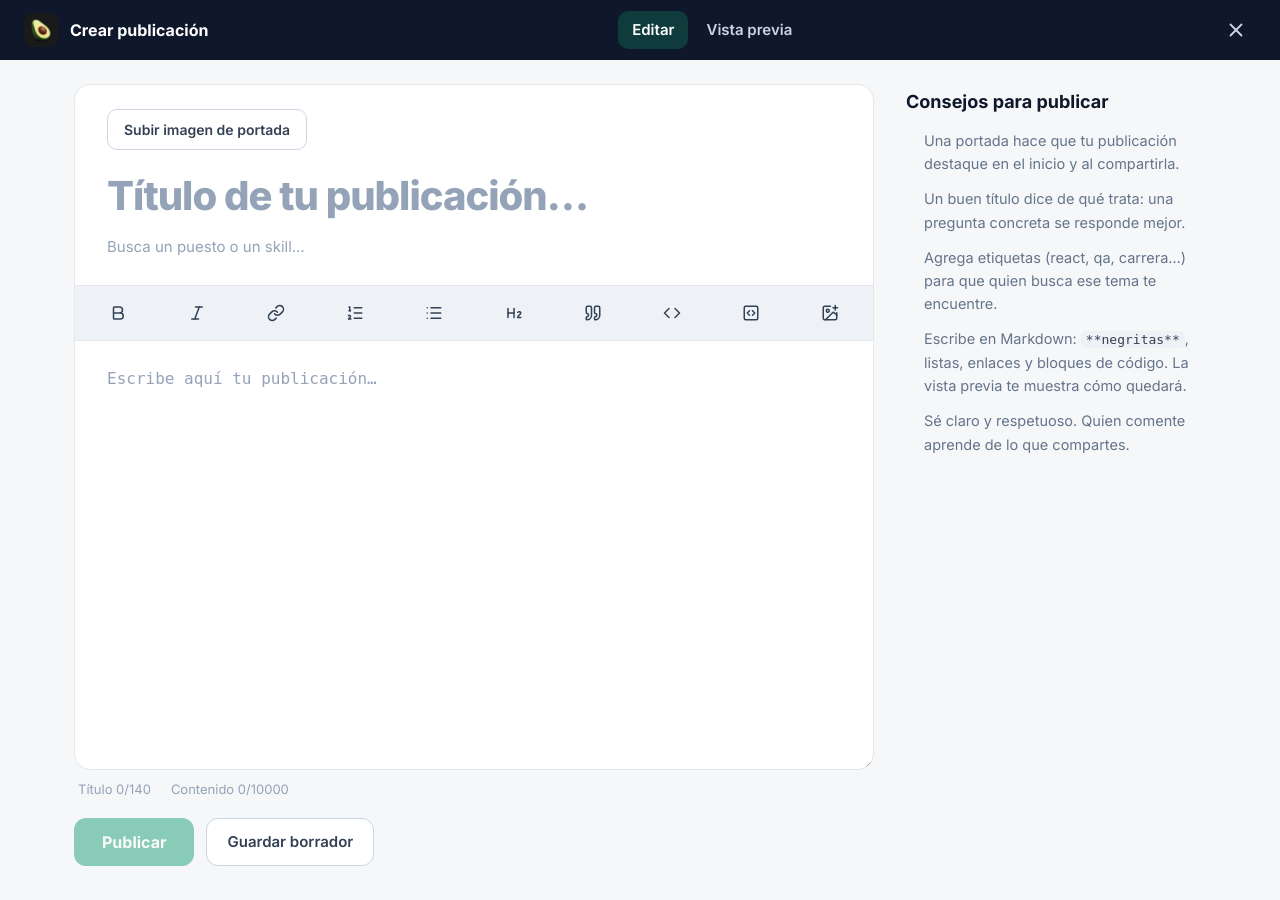
Test: PublishForm › shows the puestos and skills that match while you type
Type "re" into the dropdown named "Etiquetas" at (474, 247), box [107,230,841,264]
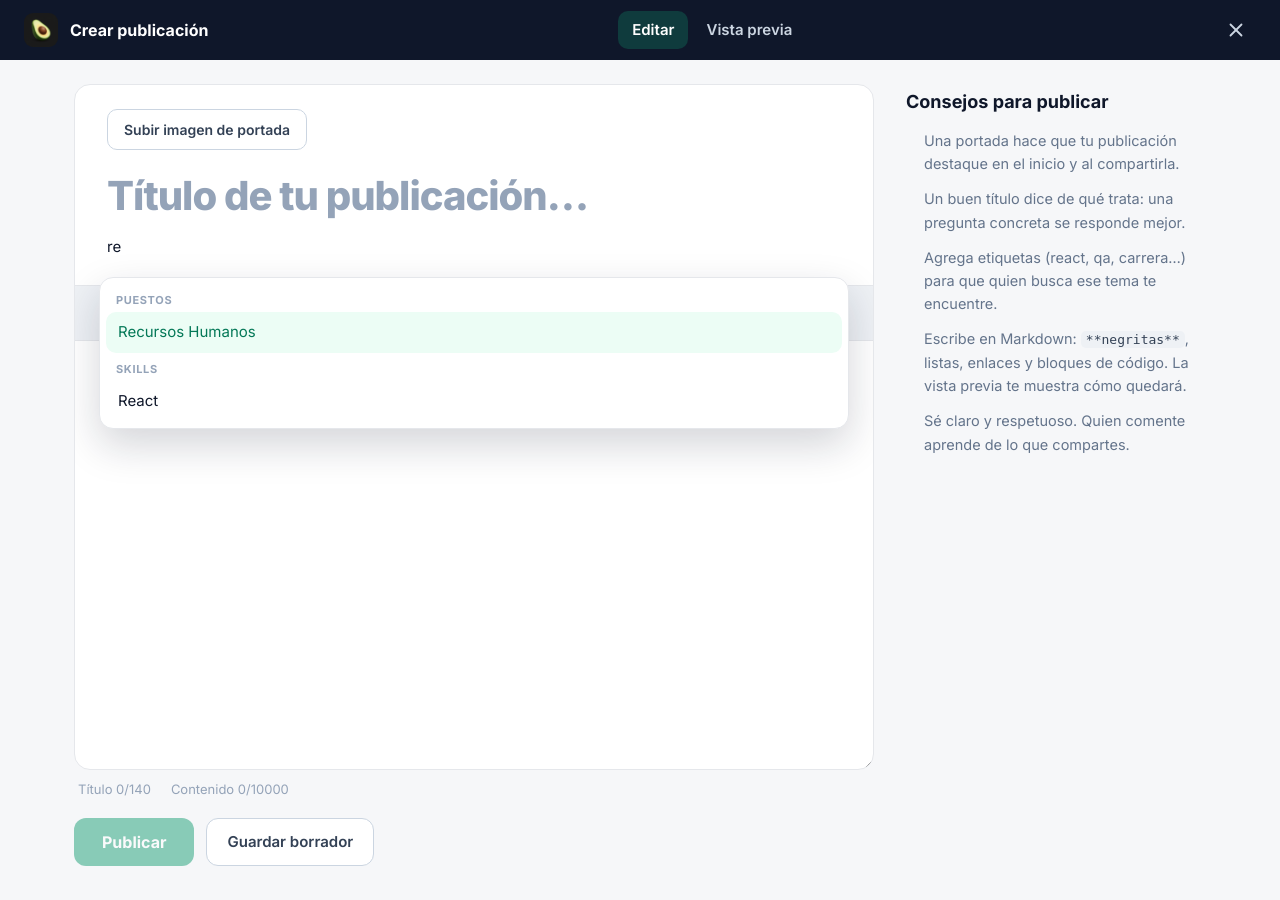
Now the option "React" is shown, box [106,381,842,422]
Now the text "Skills" is shown, box [116,362,158,376]
